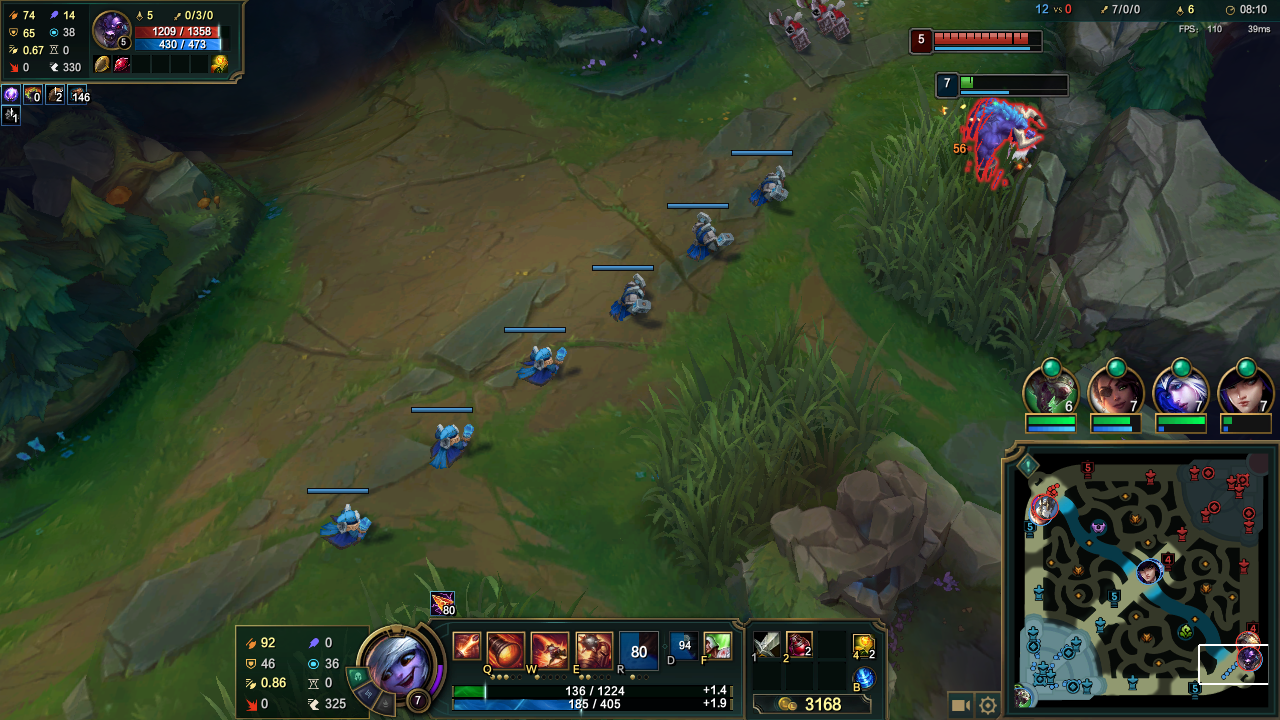DFXB: (765, 8, 813, 56), (800, 1, 836, 35)
DFYX: (927, 34, 1002, 53)
WFXB: (673, 211, 741, 274), (740, 162, 805, 213), (608, 273, 662, 331), (427, 416, 488, 467), (316, 502, 382, 547), (511, 345, 575, 387)
